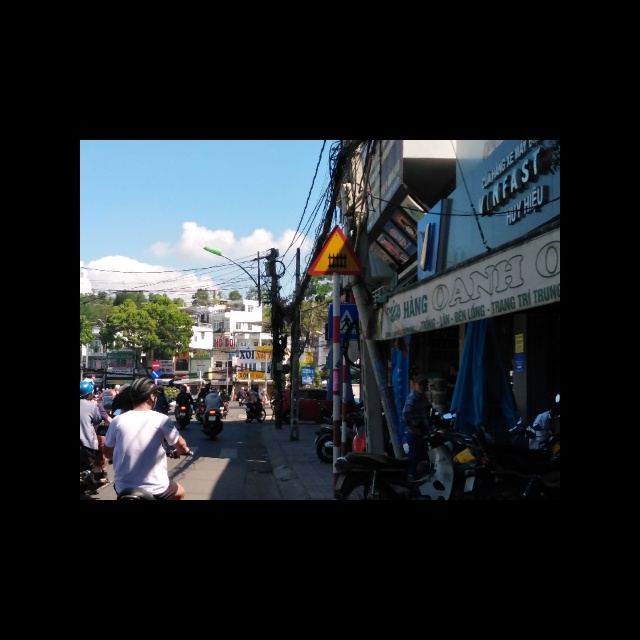Giao nhau với đường sắt có rào chắn: (308, 223, 370, 275)
